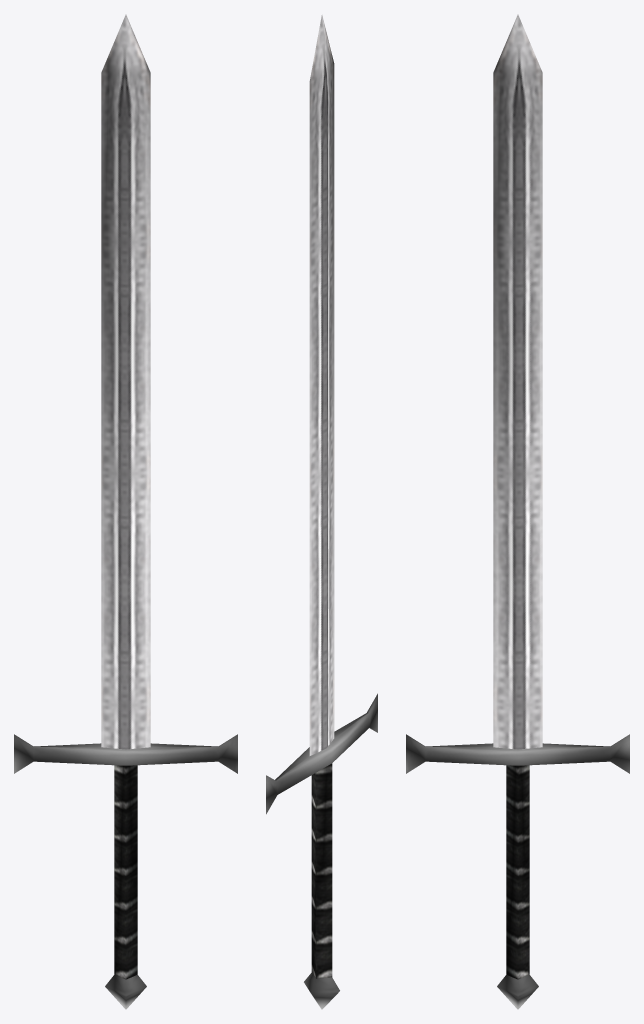
The model's file is MedievalTwoHandSword.fbx.
3 views of the same model, side by side, from view 1: azimuth 90°, elevation 25°; view 2: azimuth 150°, elevation 25°; view 3: azimuth 270°, elevation 25° (orthographic).
Parts seen in each view (by area): view 1: MedievalTwoHandSword; view 2: MedievalTwoHandSword; view 3: MedievalTwoHandSword.
Part boxes in pixels (left/top/right/bottom): MedievalTwoHandSword: left=14, top=14, right=237, bottom=1009; MedievalTwoHandSword: left=266, top=15, right=377, bottom=1009; MedievalTwoHandSword: left=406, top=14, right=629, bottom=1009.
Bounding box in the file's own units: 0.0652 × 1.69 × 0.345.
